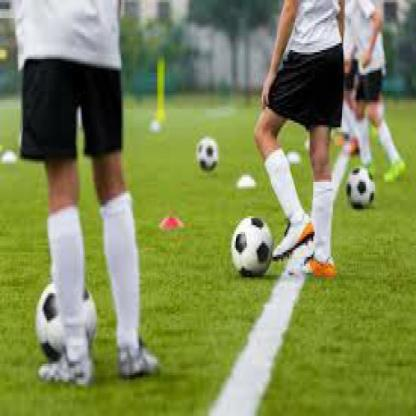ball: (33, 277, 102, 367), (229, 212, 275, 280), (343, 164, 377, 212), (195, 133, 220, 174)
